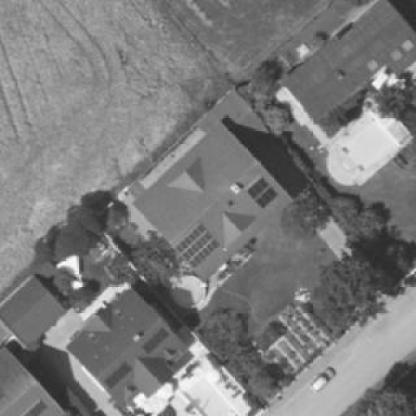solar-pv-panel: (173, 223, 220, 269), (245, 176, 279, 209), (105, 363, 132, 388), (143, 327, 169, 352), (24, 399, 47, 415)
